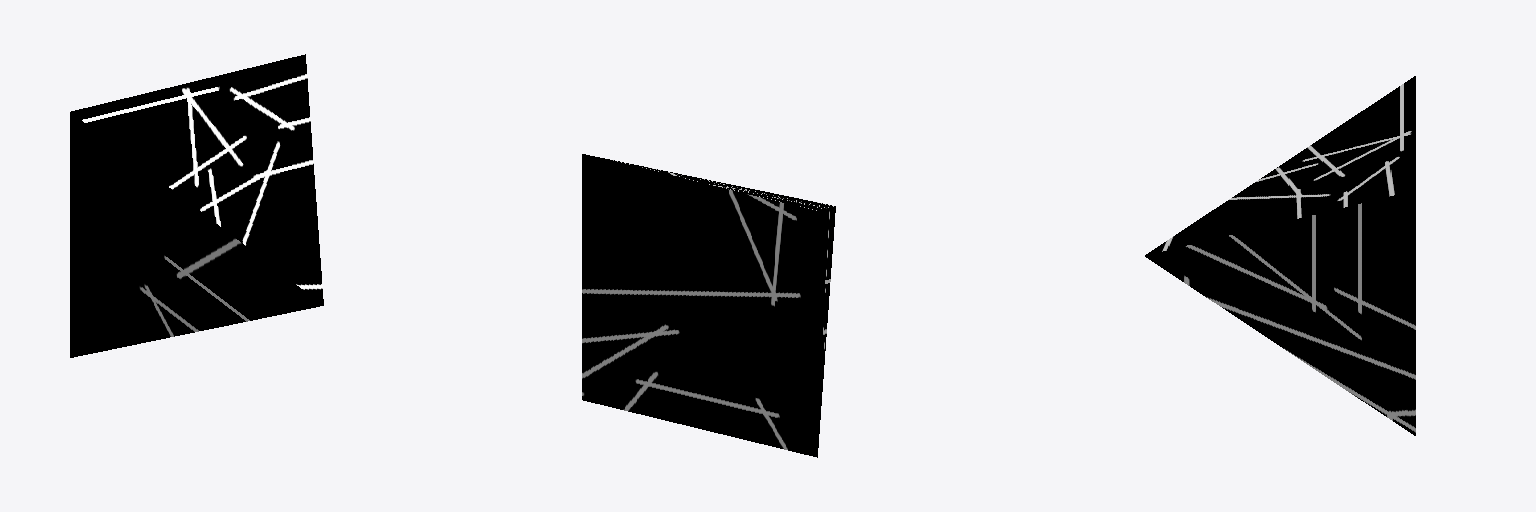
The picture shows the model from 3 angles: view 1: azimuth 30°, elevation 25°; view 2: azimuth 150°, elevation 25°; view 3: azimuth 270°, elevation 25°; orthographic projection.
Visible parts, largest first — view 1: Cube; view 2: Cube; view 3: Cube.
Part boxes in pixels (x1,y1,x2,y2): Cube: (70, 54, 323, 357); Cube: (582, 154, 835, 457); Cube: (1145, 76, 1415, 435).
Size of the model in its own units: 2 by 2 by 2.
1 materials, 1 textured.